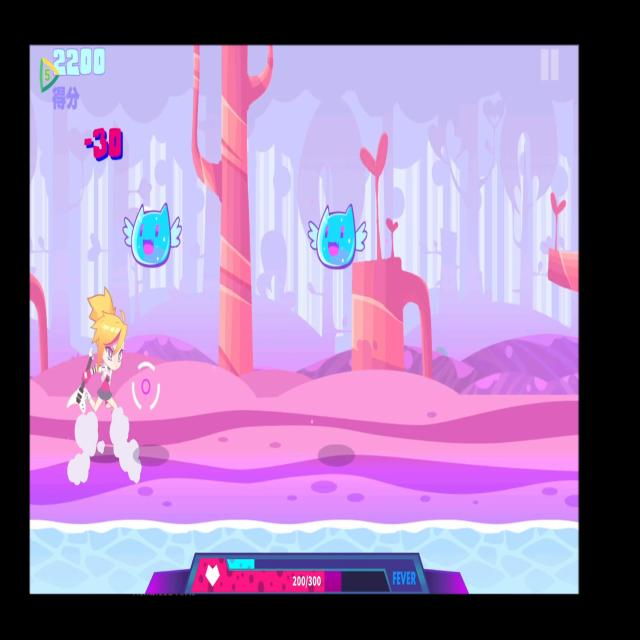Sky Monster - Blue Devil: (114, 188, 190, 273), (298, 194, 371, 276)
